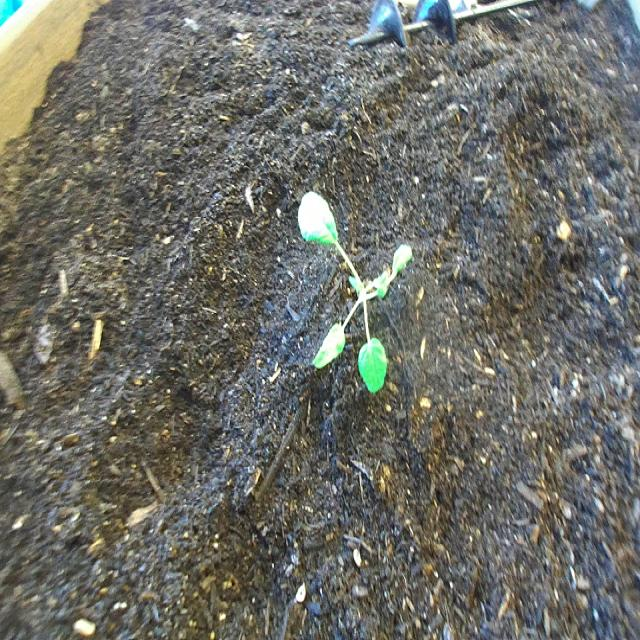Healthy: (291, 184, 417, 400)
